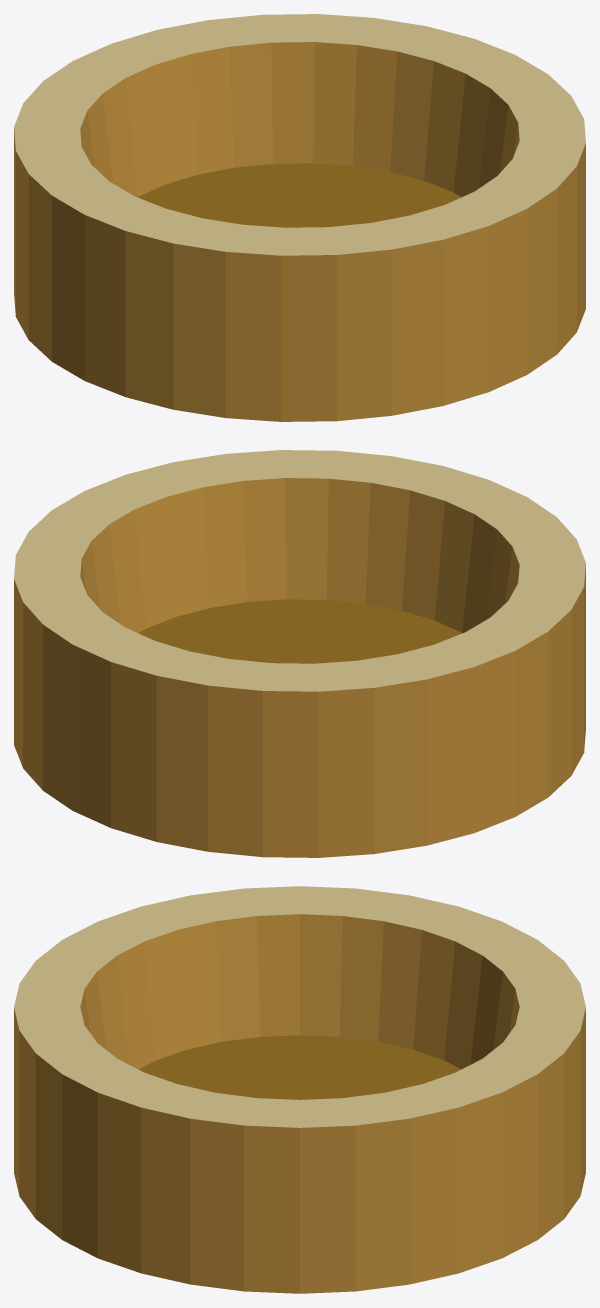
File: ring (1).fbx
3 renders of one model, top to bottom at view 1: azimuth 30°, elevation 25°; view 2: azimuth 150°, elevation 25°; view 3: azimuth 270°, elevation 25°, orthographic.
Visible parts, largest first — view 1: Cylinder; view 2: Cylinder; view 3: Cylinder.
Boxes of the visible parts, x1=… form: Cylinder: x1=14, y1=14, x2=585, y2=421; Cylinder: x1=14, y1=450, x2=585, y2=857; Cylinder: x1=14, y1=886, x2=585, y2=1293.
Size of the model in its own units: 567 by 181 by 567.
